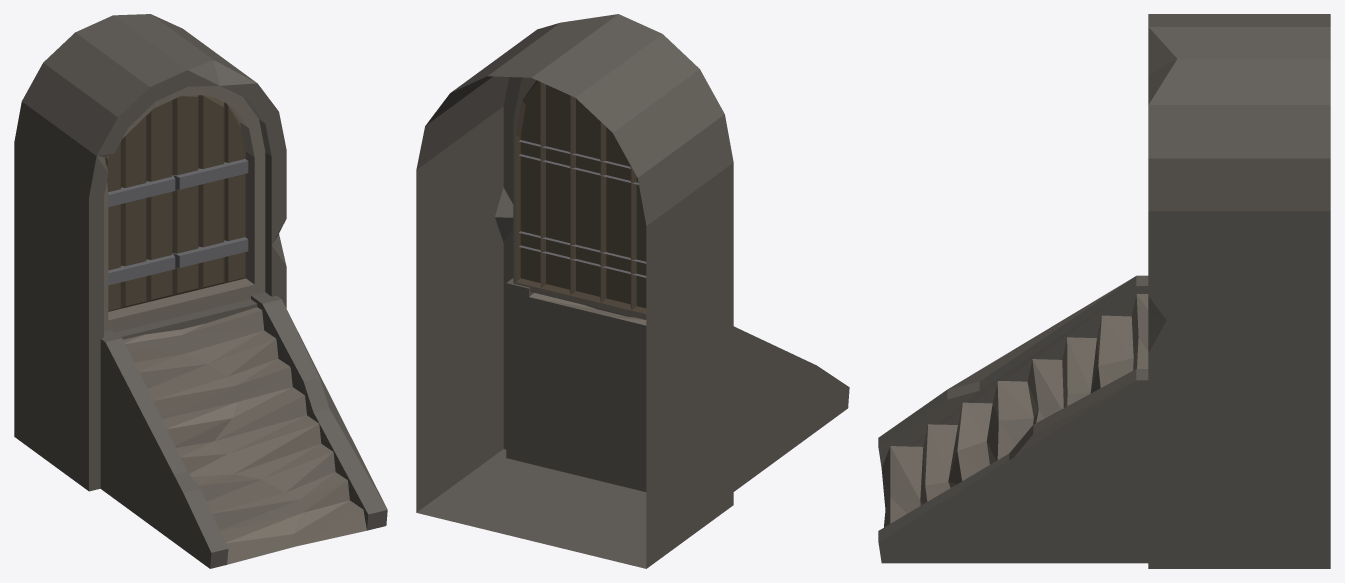
File: SM_Bld_Fort_Door_01.glb
3 views of the same model, side by side, from view 1: azimuth 30°, elevation 25°; view 2: azimuth 150°, elevation 25°; view 3: azimuth 270°, elevation 25° (orthographic). The views are drawn at different scales.
Visible parts, largest first — view 1: SM_Bld_Fort_Door_01_part00; view 2: SM_Bld_Fort_Door_01_part00; view 3: SM_Bld_Fort_Door_01_part00.
Boxes of the visible parts, x1,y1,x2,y2 form: SM_Bld_Fort_Door_01_part00: (14,14,387,568); SM_Bld_Fort_Door_01_part00: (416,14,849,568); SM_Bld_Fort_Door_01_part00: (878,14,1330,568).
Size of the model in its own units: 3.62 by 6.95 by 5.89.
Materials: 1 (1 with a texture image).
